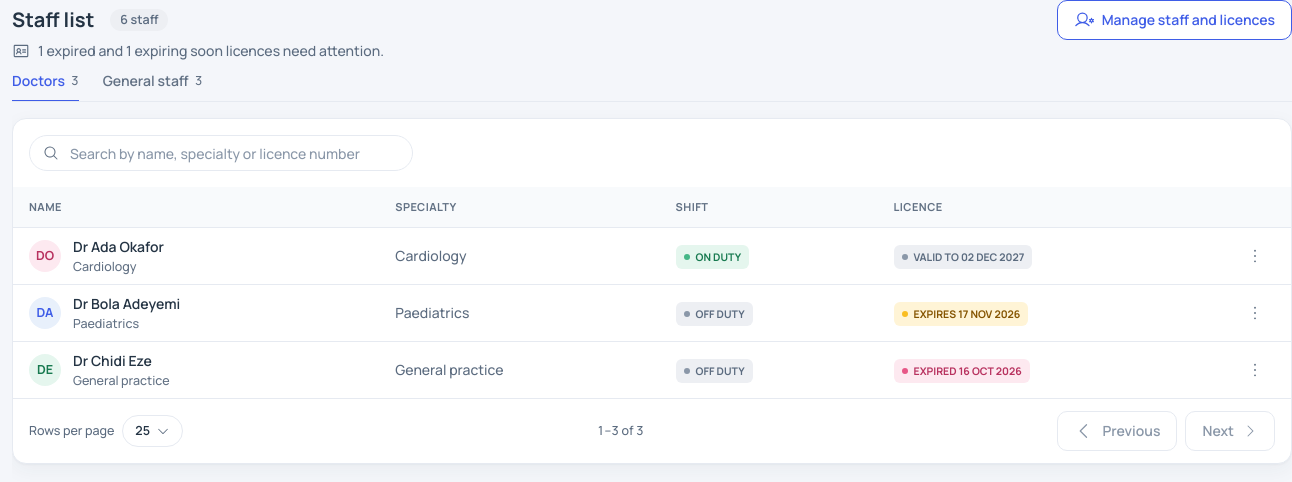
Scenario: staff list › searches by name, specialty or licence number
Type "paed" into the search field named "Search doctors" at (221, 153), box [29,135,413,171]
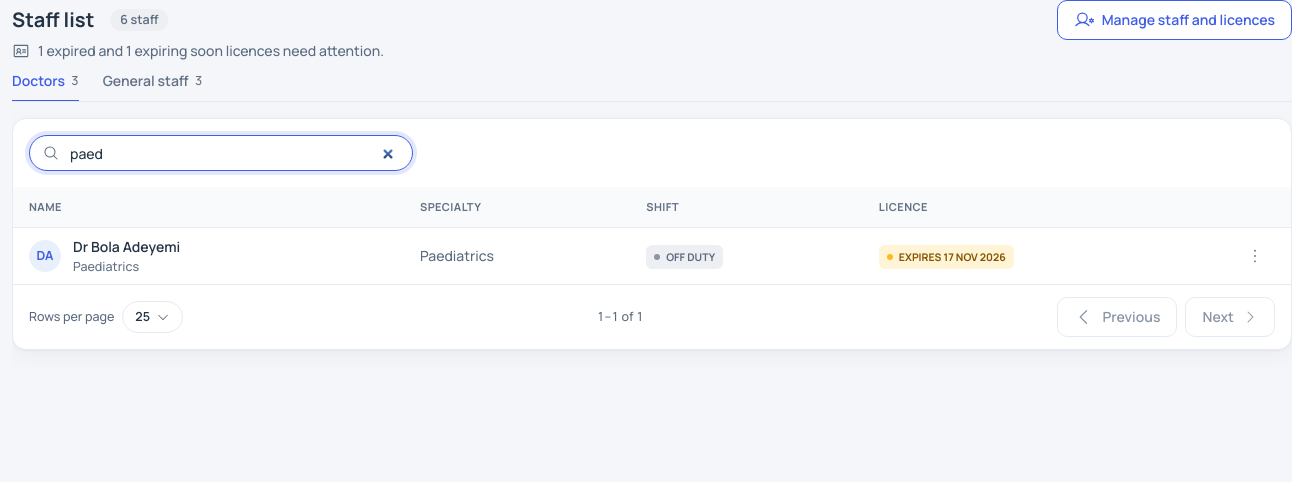
Expected: the number of rows is 2, [13,187,1291,227]; [13,228,1291,284]
Expected: the text "Dr Bola Adeyemi" is shown, [73,236,180,258]
Replace the text in the search field named "Search doctors" with "nobody" at (221, 153), box [29,135,413,171]
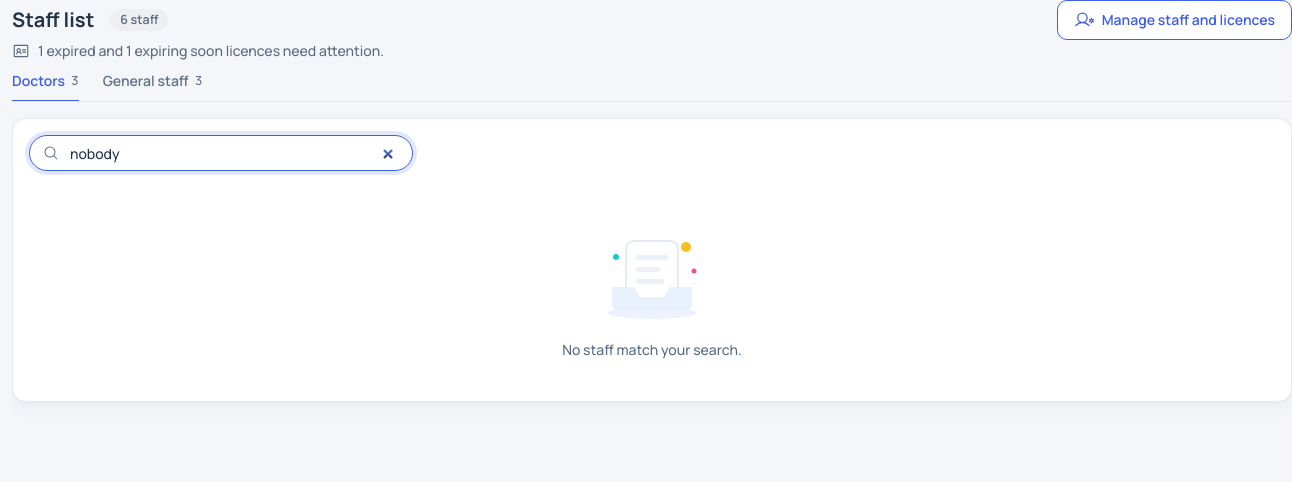
Now the text "No staff match your search." is shown, box [562,339,742,361]
